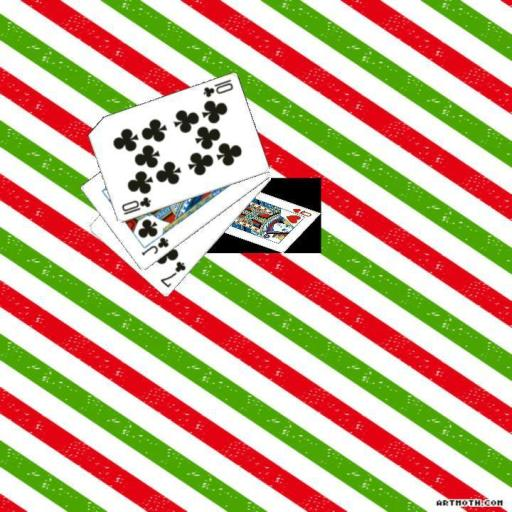card-corner: (157, 258, 188, 290), (138, 234, 171, 257), (118, 194, 152, 216), (200, 77, 234, 99)
